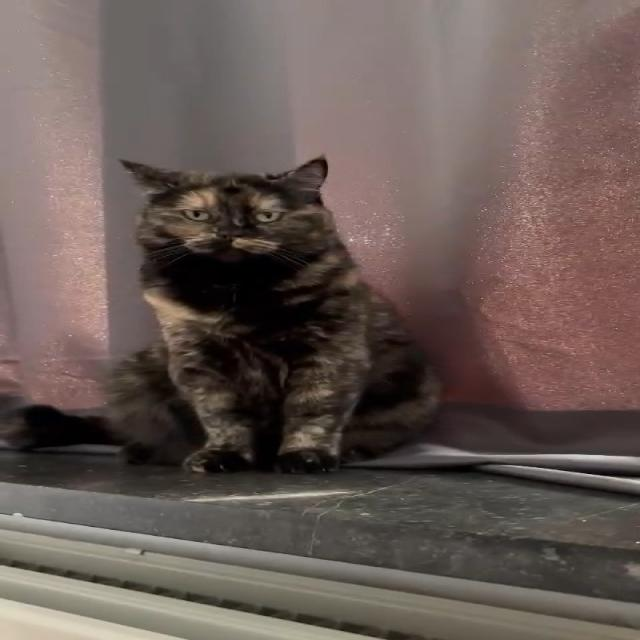authorized: (3, 153, 445, 475)
